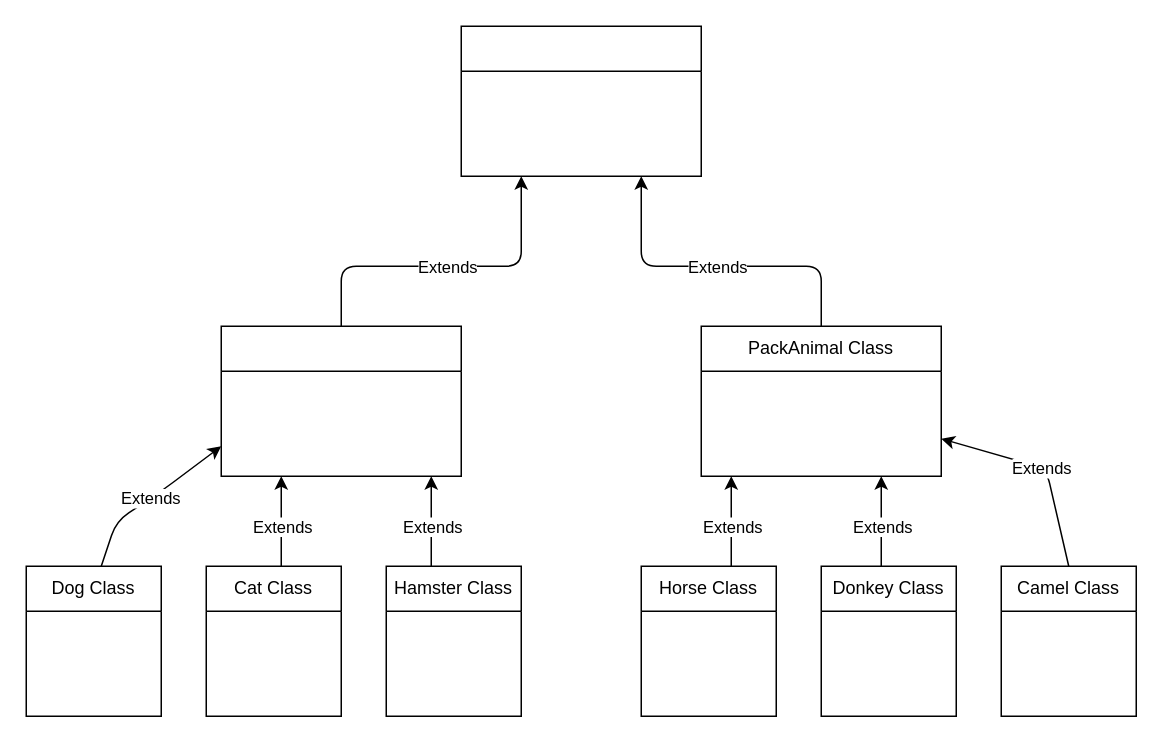
This 1163x743 diagram has some shape labels left out. Each missing label, with the centre of its shape:
"Animal Class" goes at point 580,100.
"HomeAnimal Class" goes at point 340,400.
